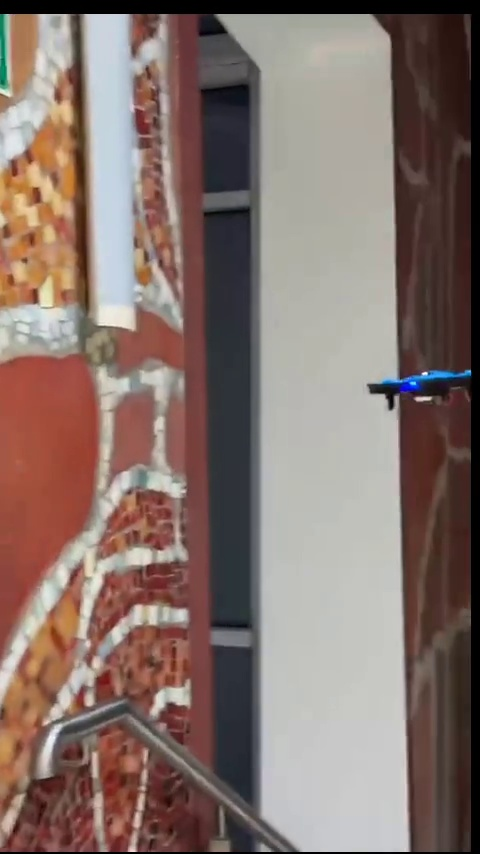drone: (367, 366, 477, 412)
